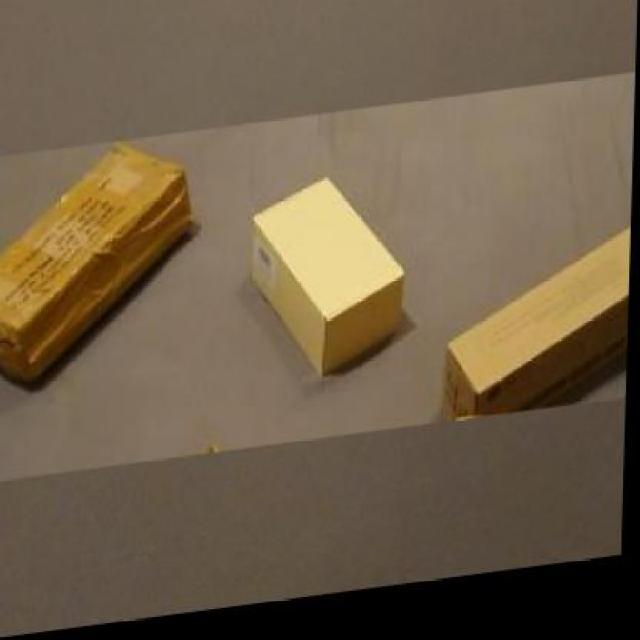box: (0, 138, 194, 380), (448, 244, 632, 426), (251, 175, 406, 388)
